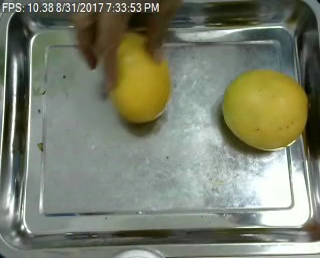Mango: (222, 68, 309, 150), (104, 30, 171, 123)
